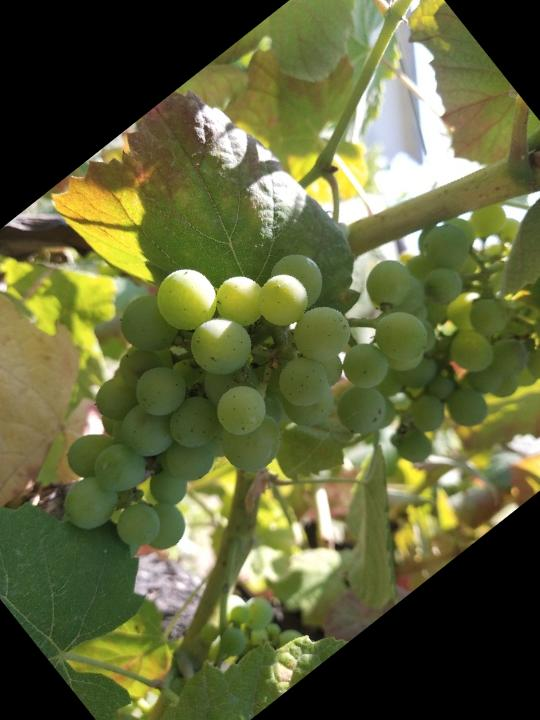grape: (0, 167, 458, 618)
